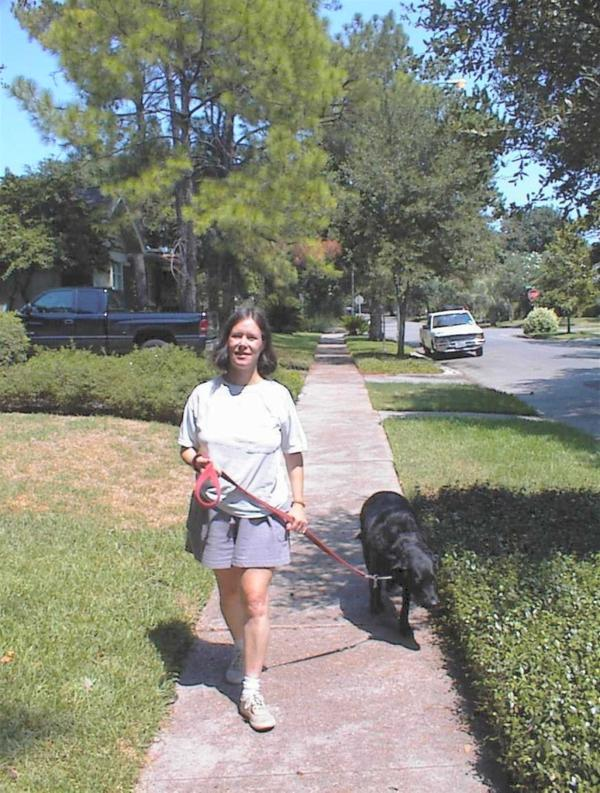person: (184, 312, 305, 734)
